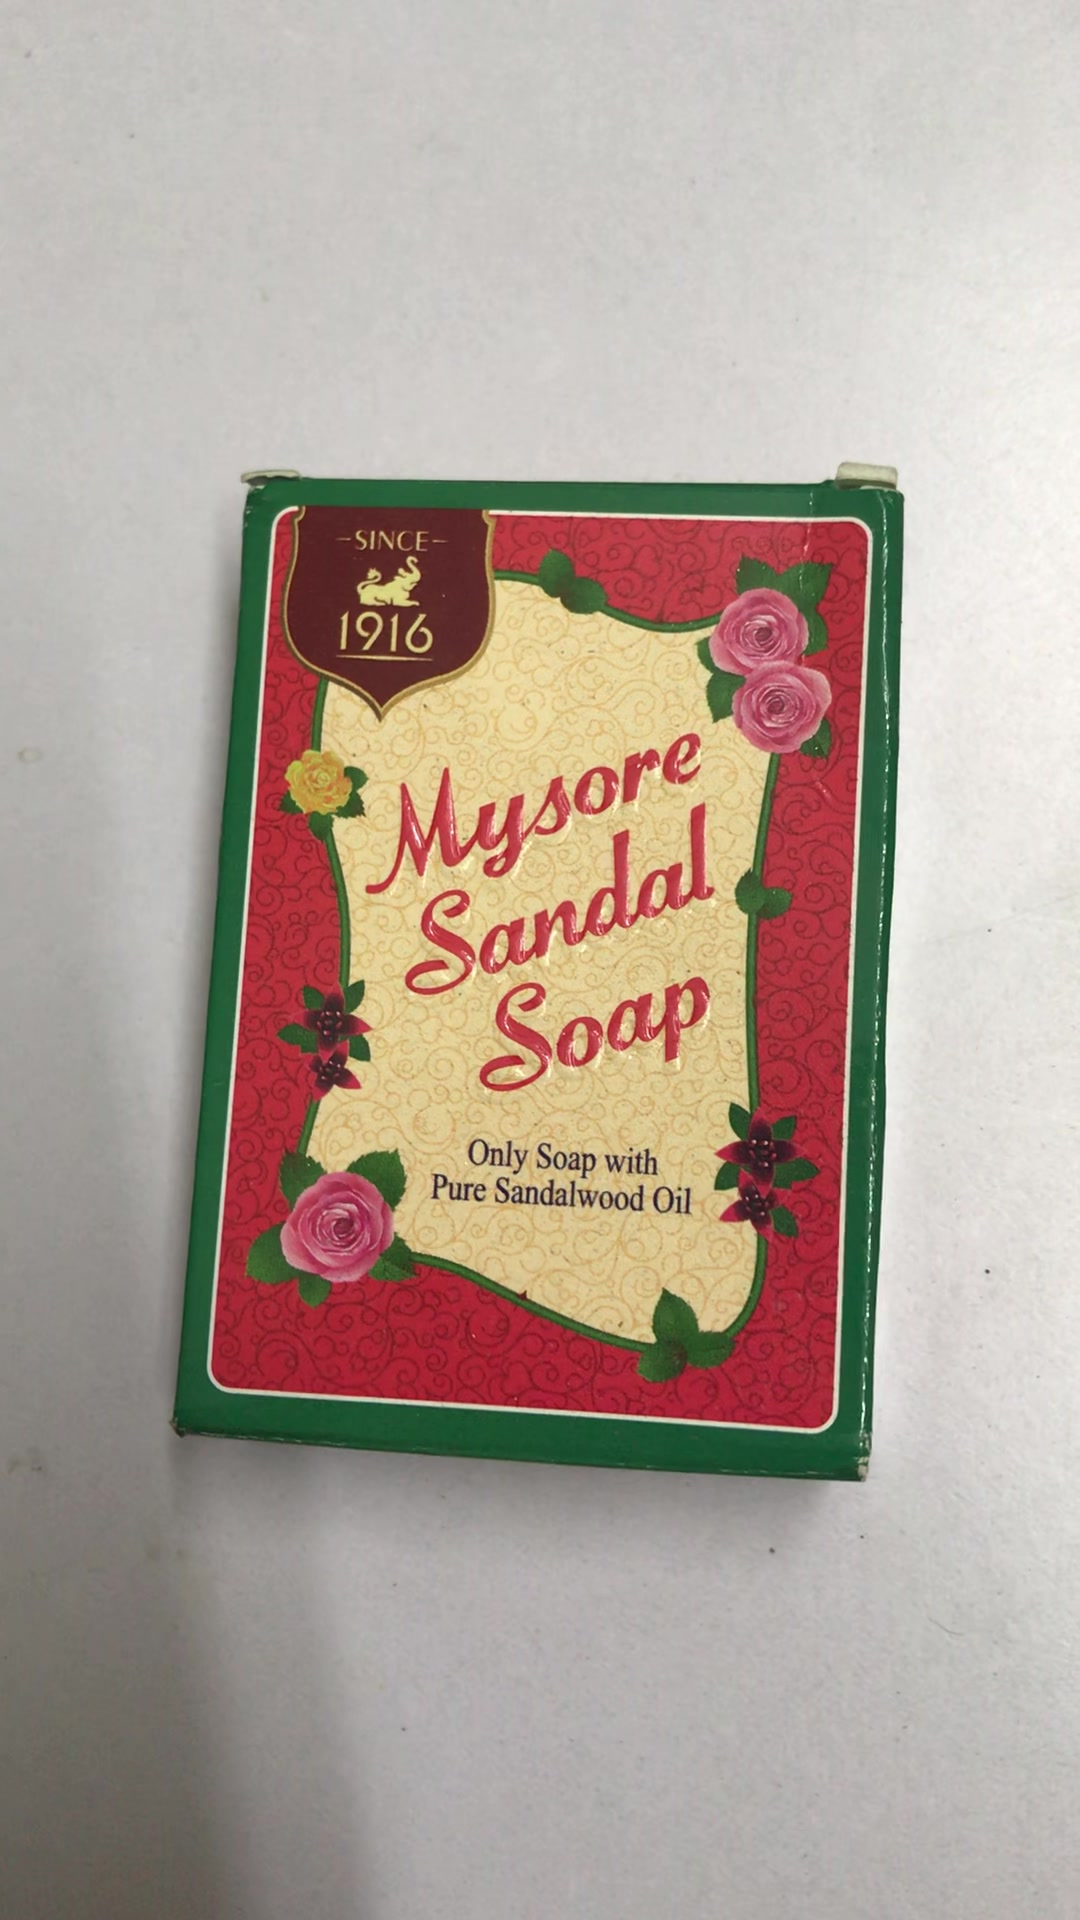mysore sandal soap: (161, 465, 878, 1481)
